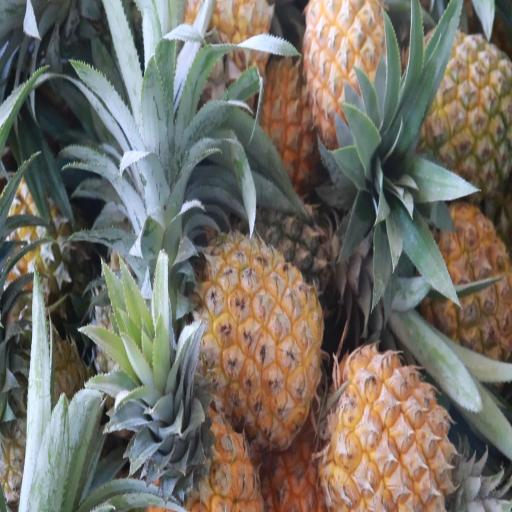Pineapple - v8 v1: (198, 232, 319, 446), (324, 349, 456, 512), (129, 361, 260, 512), (419, 201, 512, 364), (304, 2, 402, 152), (419, 32, 512, 186)
